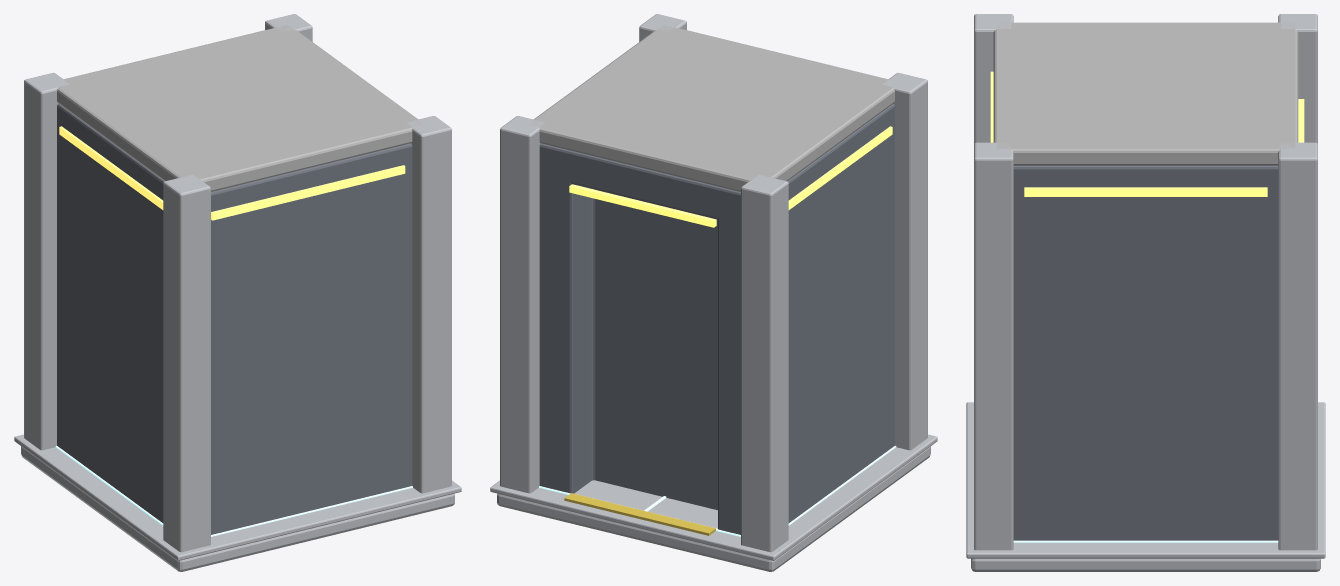
The model's file is hangar_2x2.glb.
3 views of the same model, side by side, from view 1: azimuth 30°, elevation 25°; view 2: azimuth 150°, elevation 25°; view 3: azimuth 270°, elevation 25° (orthographic). The views are drawn at different scales.
Visible parts, largest first — view 1: ext_wall, int_columns, int_ceiling, int_slab_edge, int_slab, ext_stripe3, ext_stripe2, int_grid; view 2: ext_wall, int_columns, int_ceiling, int_slab_edge, int_slab, ext_door_hazard, ext_door_glow, ext_stripe2, int_grid; view 3: ext_wall, int_ceiling, int_columns, int_slab_edge, int_slab, ext_stripe0, int_grid.
Part boxes in pixels (<box>): ext_wall: <box>57,103,412,534</box>; int_columns: <box>24,14,451,552</box>; int_ceiling: <box>57,25,421,191</box>; int_slab_edge: <box>14,434,461,560</box>; int_slab: <box>21,446,454,571</box>; ext_stripe3: <box>211,165,405,220</box>; ext_stripe2: <box>59,126,163,209</box>; int_grid: <box>55,445,412,536</box>; ext_wall: <box>539,103,894,534</box>; int_columns: <box>500,14,927,552</box>; int_ceiling: <box>528,25,894,191</box>; int_slab_edge: <box>490,434,937,560</box>; int_slab: <box>497,446,930,571</box>; ext_door_hazard: <box>564,493,715,535</box>; ext_door_glow: <box>569,184,716,227</box>; ext_stripe2: <box>788,126,892,209</box>; int_grid: <box>539,445,896,536</box>; ext_wall: <box>1013,165,1278,540</box>; int_ceiling: <box>993,22,1298,165</box>; int_columns: <box>974,14,1317,550</box>; int_slab_edge: <box>966,402,1325,558</box>; int_slab: <box>971,558,1320,571</box>; ext_stripe0: <box>1024,187,1267,196</box>; int_grid: <box>1013,540,1278,542</box>.
Size of the model in its own units: 2.36 by 3 by 2.36.
